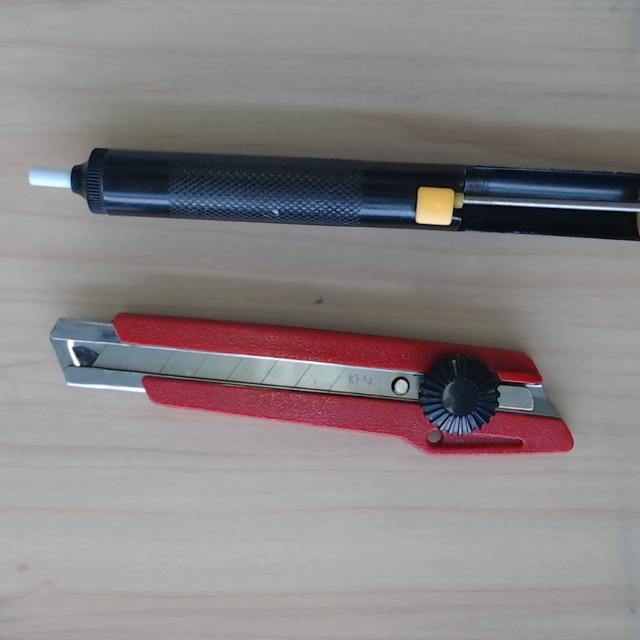Cutter-Besar: (42, 301, 582, 468)
